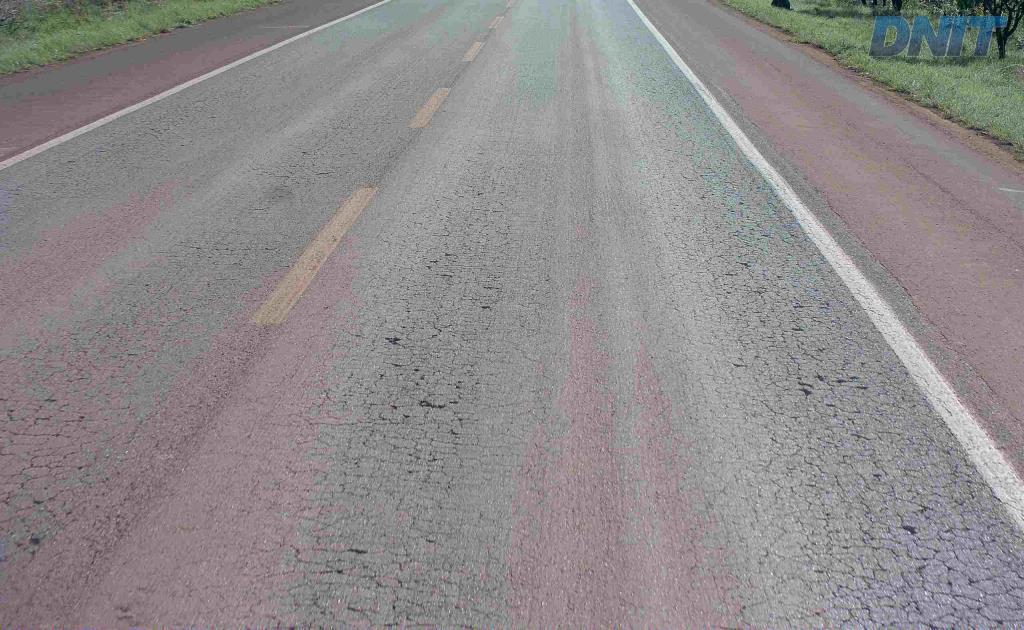crack: (319, 532, 388, 588), (287, 571, 342, 607)
